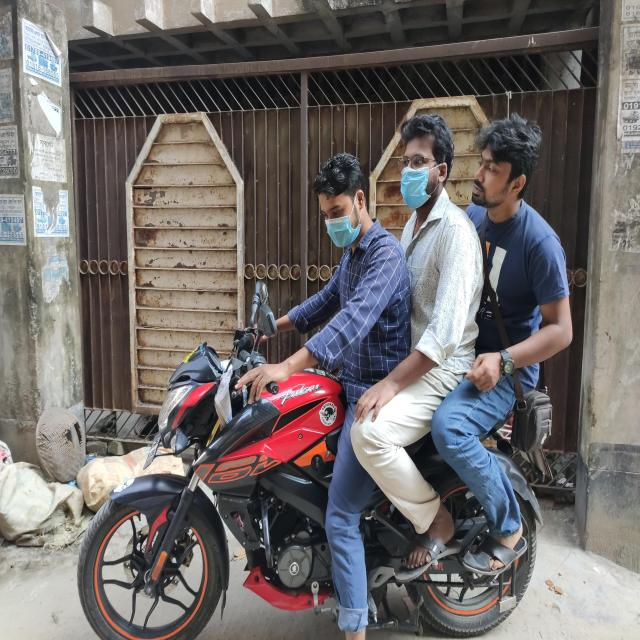triple_rider: (76, 109, 571, 640)
